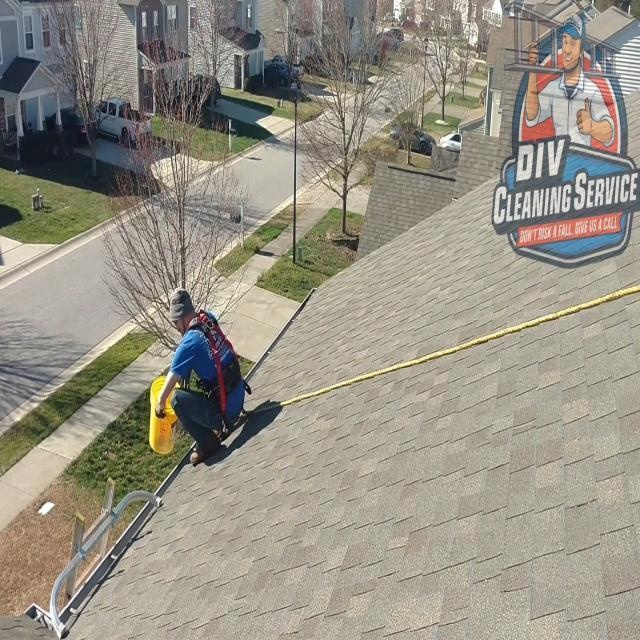Arnes_seguridad: (184, 308, 249, 441)
